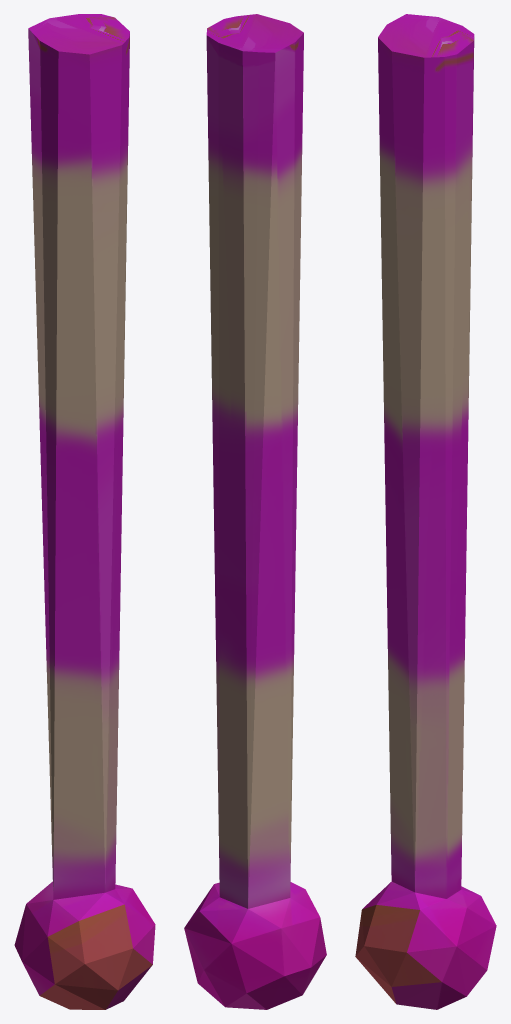
File: net bottom.fbx
3 renders of one model, left to right at view 1: azimuth 30°, elevation 25°; view 2: azimuth 150°, elevation 25°; view 3: azimuth 330°, elevation 25°, orthographic.
Visible parts, largest first — view 1: Cube; view 2: Cube; view 3: Cube.
Part boxes in pixels (x1,y1,x2,y2): Cube: [14, 14, 155, 1009]; Cube: [184, 14, 326, 1009]; Cube: [355, 14, 496, 1009].
Bounding box in the file's own units: 165 × 1304 × 162.
1 material, 1 textured.
